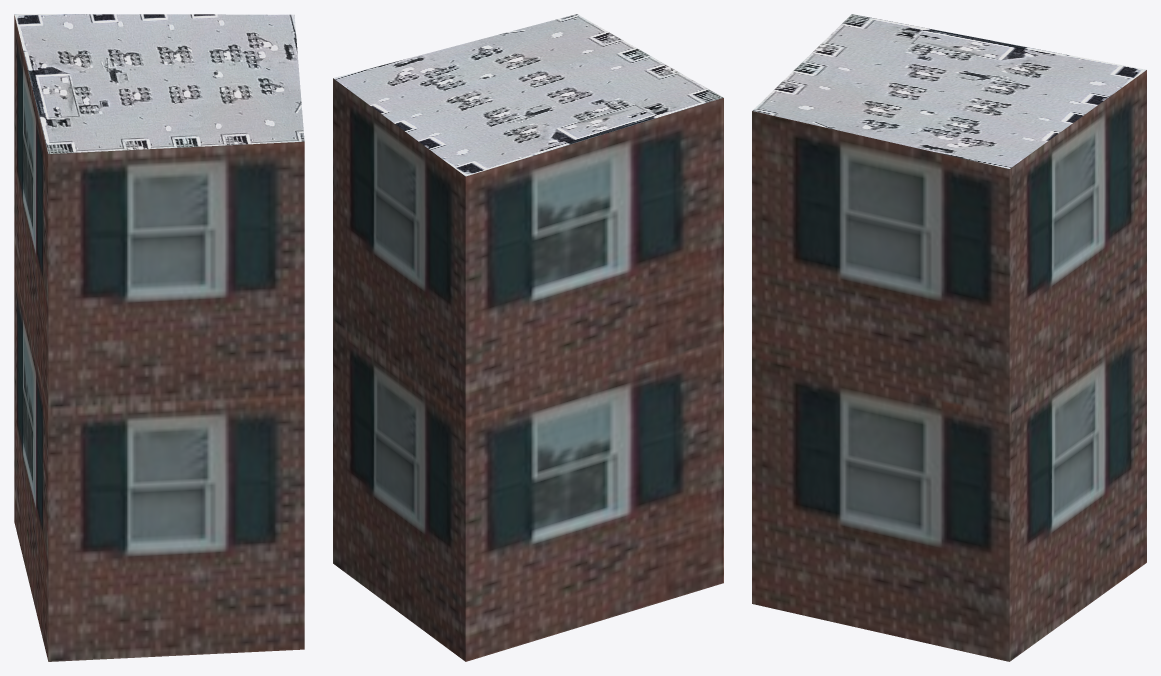
The model's file is ResTex__654.fbx.
3 views of the same model, side by side, from view 1: azimuth 30°, elevation 25°; view 2: azimuth 150°, elevation 25°; view 3: azimuth 270°, elevation 25° (orthographic). The views are drawn at different scales.
Visible parts, largest first — view 1: CityEngineMaterial_14_m, CityEngineMaterial_4_m; view 2: CityEngineMaterial_14_m, CityEngineMaterial_4_m; view 3: CityEngineMaterial_14_m, CityEngineMaterial_4_m.
Part boxes in pixels (x1,y1,x2,y2): CityEngineMaterial_14_m: (14,15,304,661); CityEngineMaterial_4_m: (14,14,304,153); CityEngineMaterial_14_m: (333,78,723,661); CityEngineMaterial_4_m: (333,14,723,176); CityEngineMaterial_14_m: (752,70,1146,661); CityEngineMaterial_4_m: (752,14,1146,168).
Size of the model in its own units: 4.05 by 6 by 4.36.
2 materials, 2 textured.
